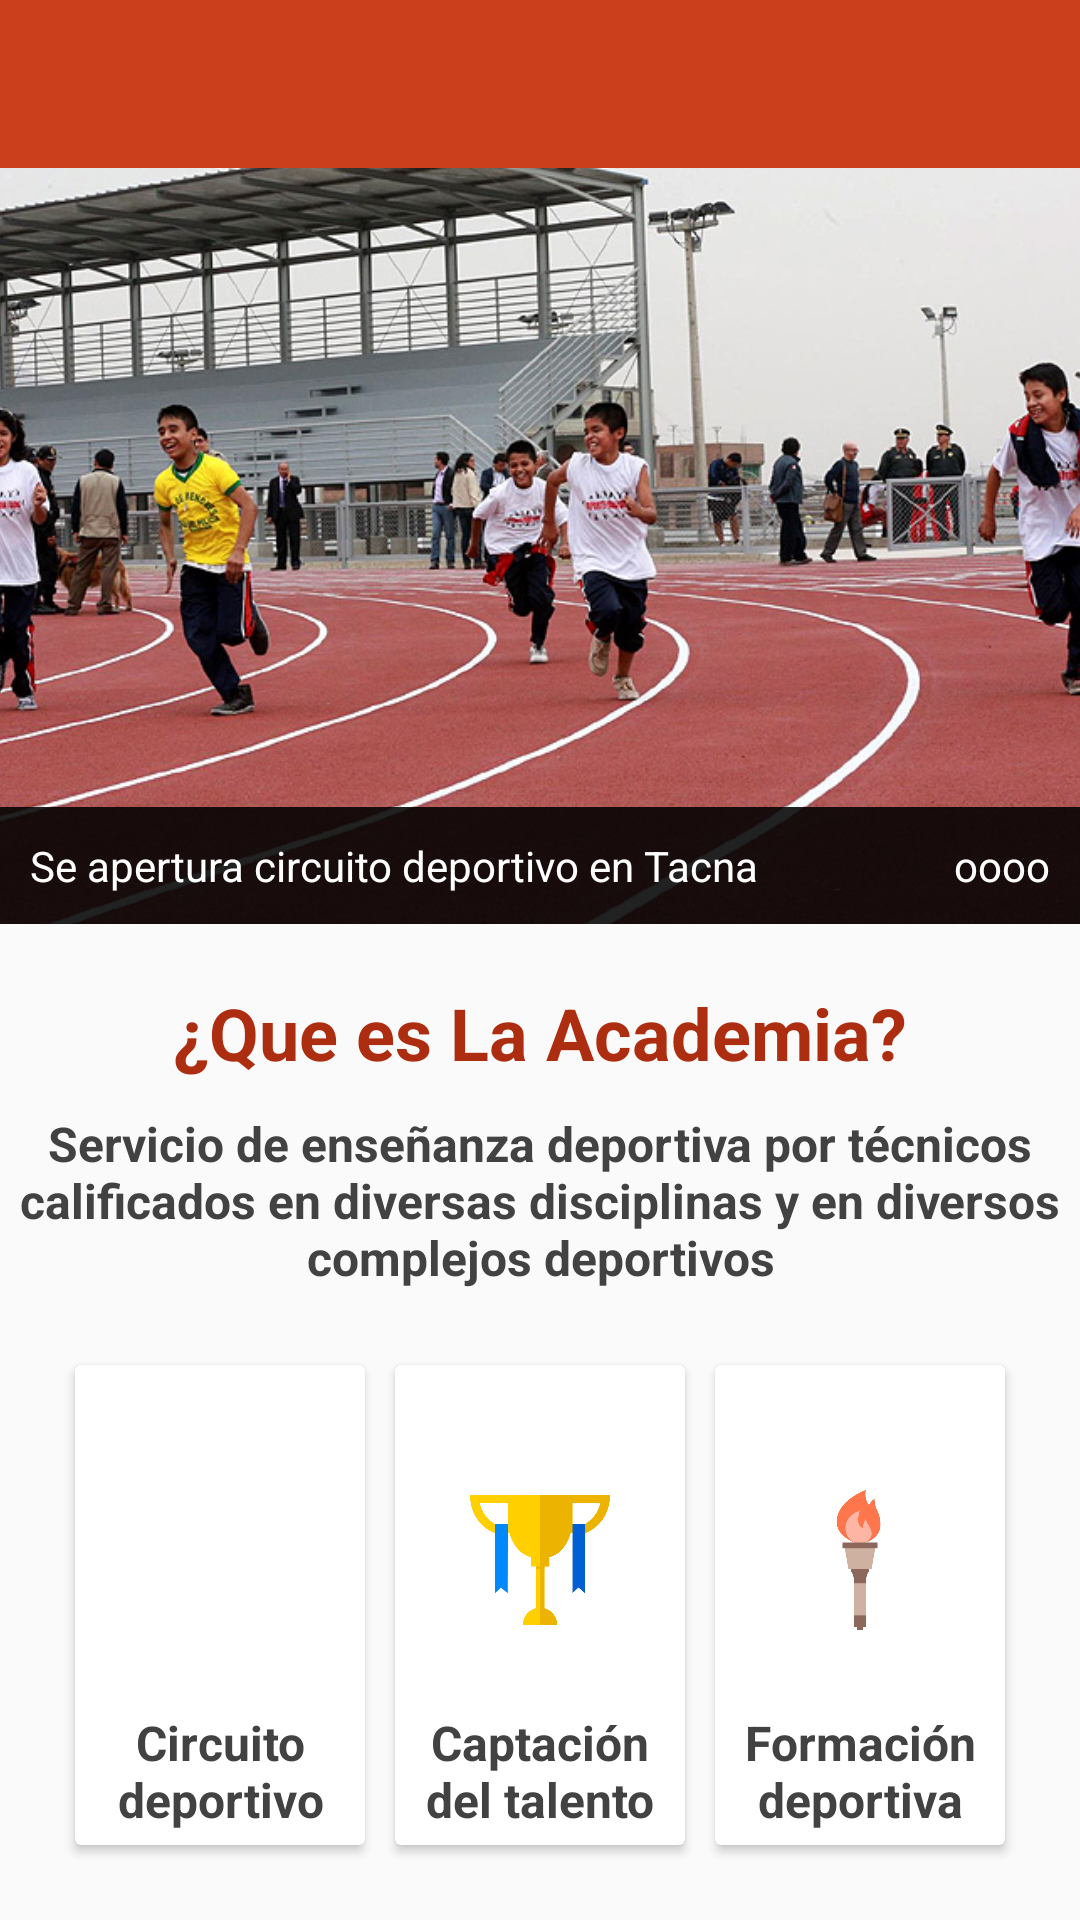

Where to tap for icons on this 1080x1920 app screen, as (x=x, y=y):
capacitacion talento: (x=540, y=1560)
formacion deportiva: (x=858, y=1560)
